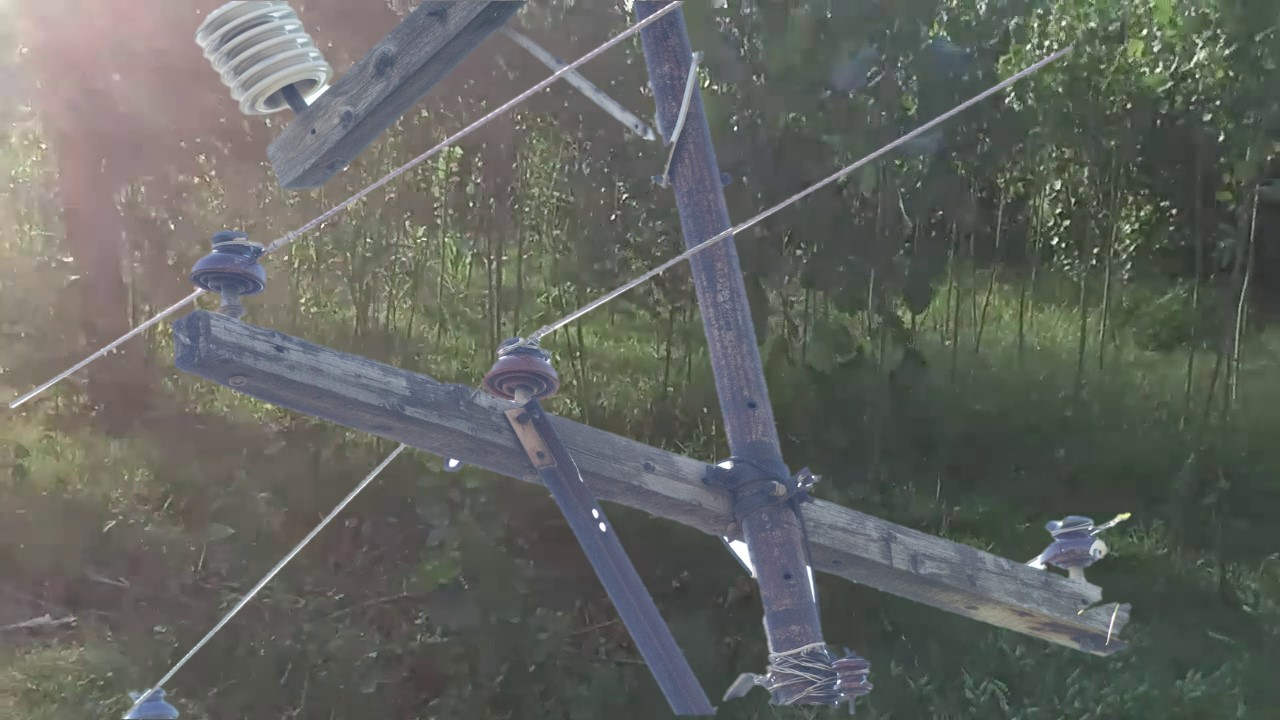defect_pin: (1040, 507, 1110, 579)
insulator_pin: (185, 225, 271, 306), (484, 336, 563, 408)
